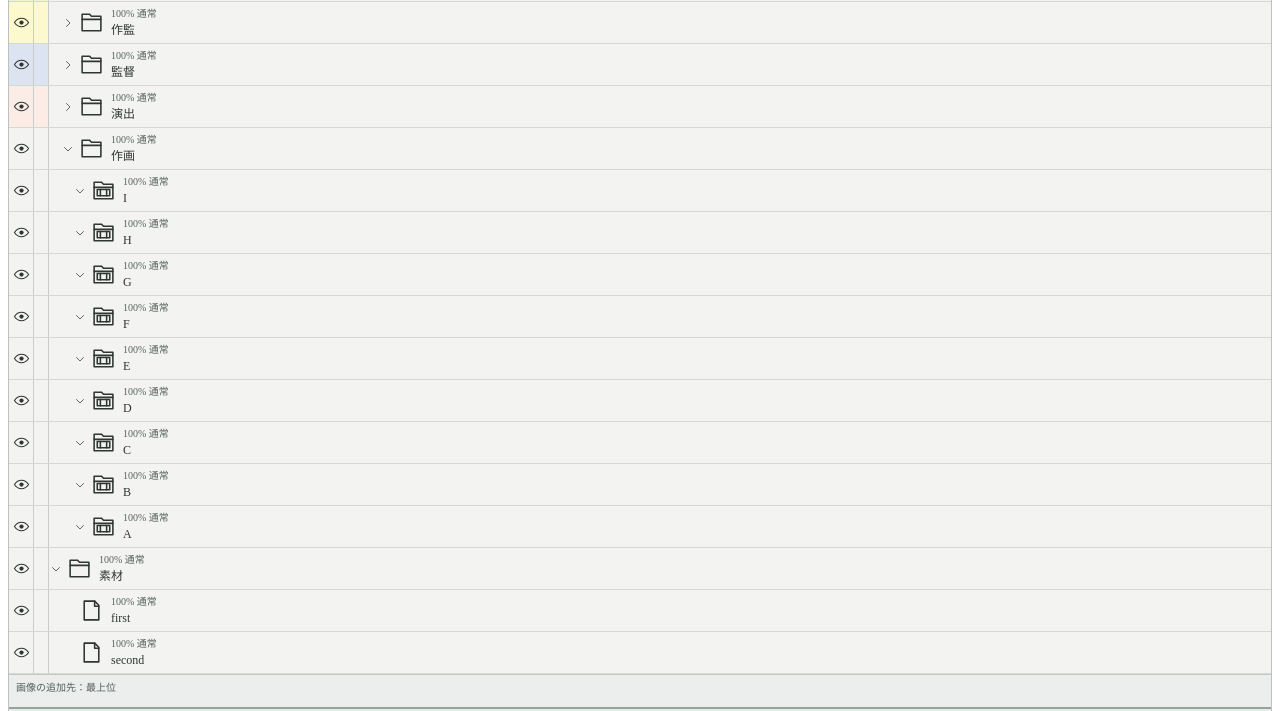
Test: CSP-style layer palette controls › renames on the name, keeps quick look separate, and cancels a slider gesture without editing
This screenshot has width=1280, height=711.
(page scrolled)
Click the element showing "100% 通常 first": x=640, y=611 left=9, top=590, right=1271, bottom=632
(page scrolled)
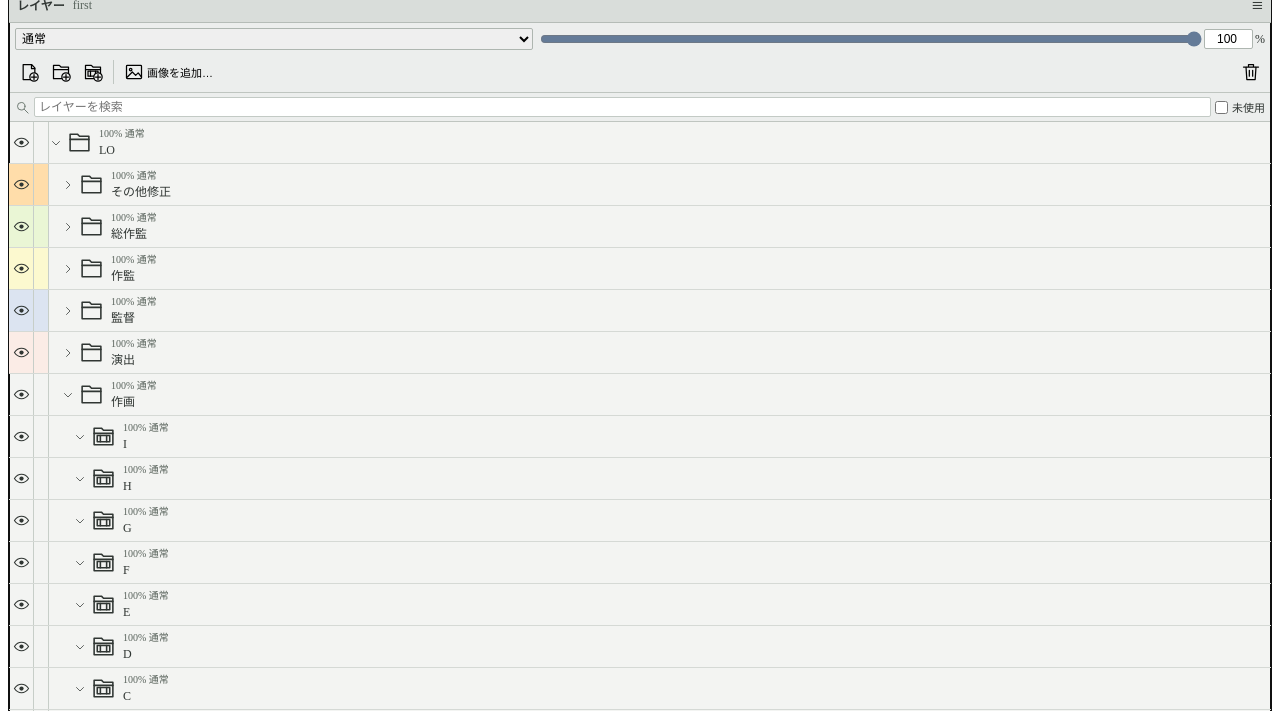
Set the slider to "20": x=677, y=39 left=540, top=31, right=1202, bottom=47
(page scrolled)
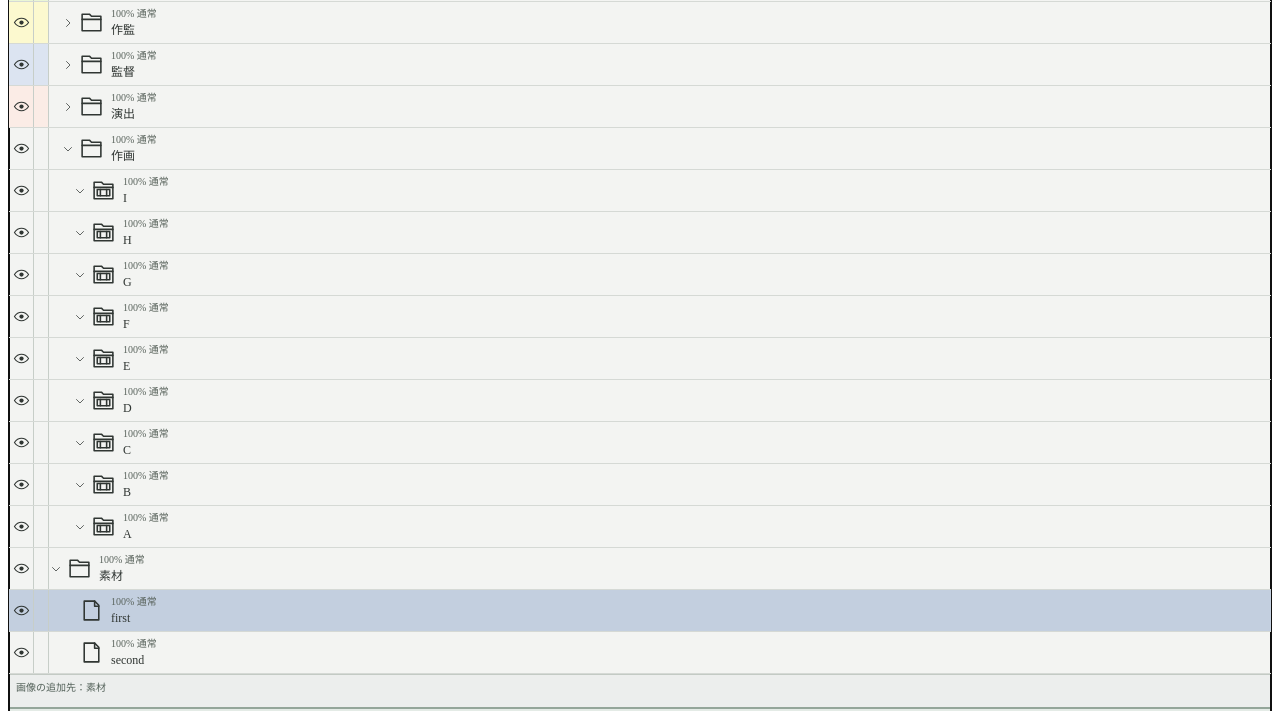
Double-click the text with class "clipLayerName" showing "first": x=121, y=618 left=111, top=610, right=130, bottom=624
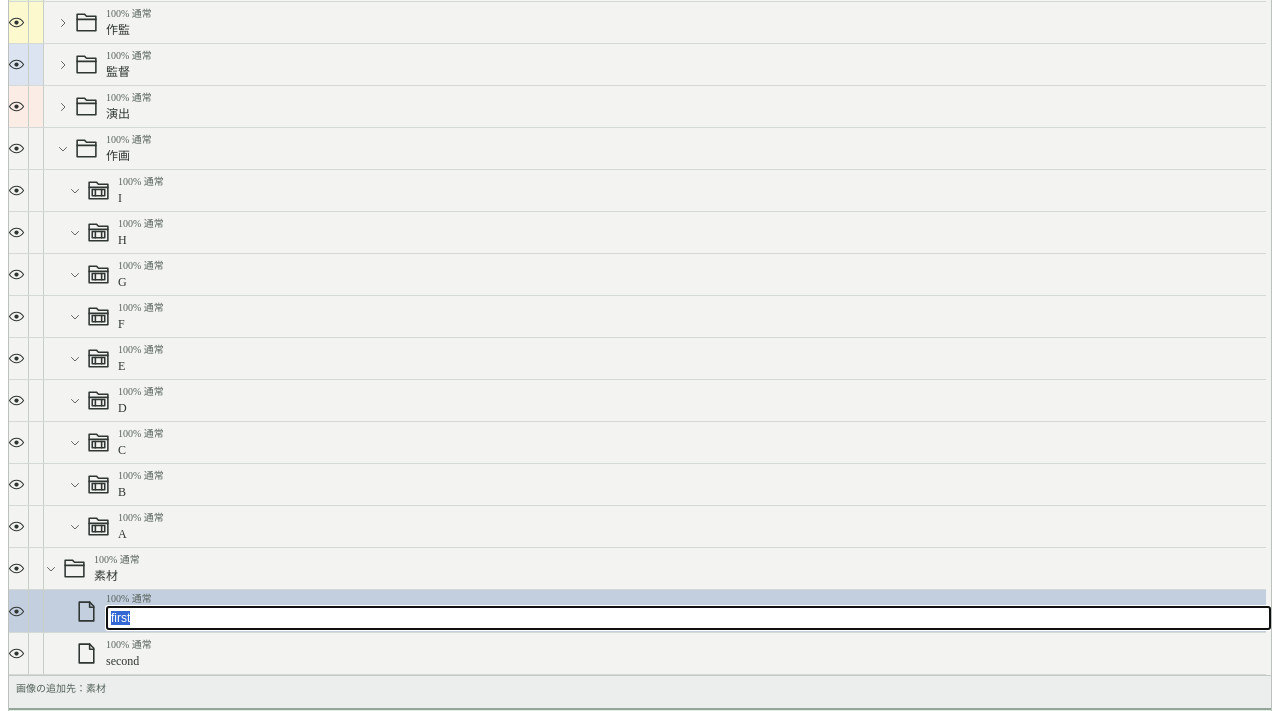
Replace the text in the field named "レイヤー名" with "renamed": x=688, y=618 left=106, top=606, right=1271, bottom=630
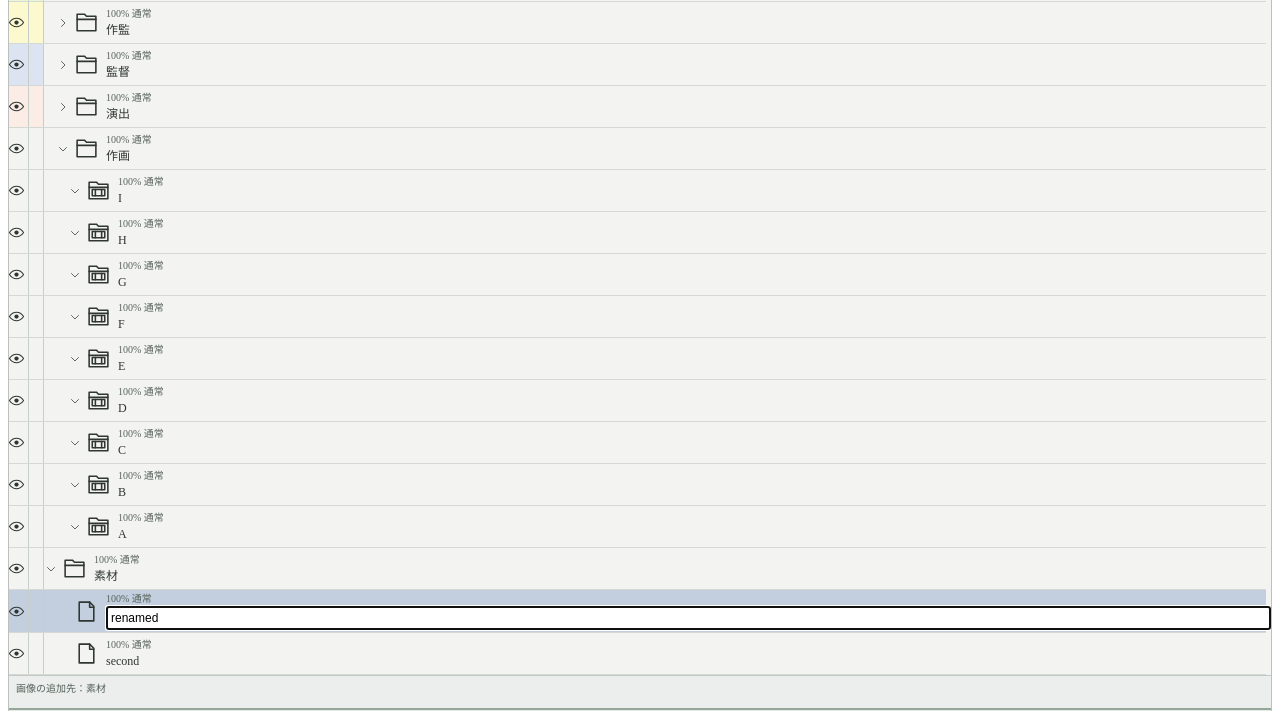
Press Enter in the field named "レイヤー名", box left=106, top=606, right=1271, bottom=630
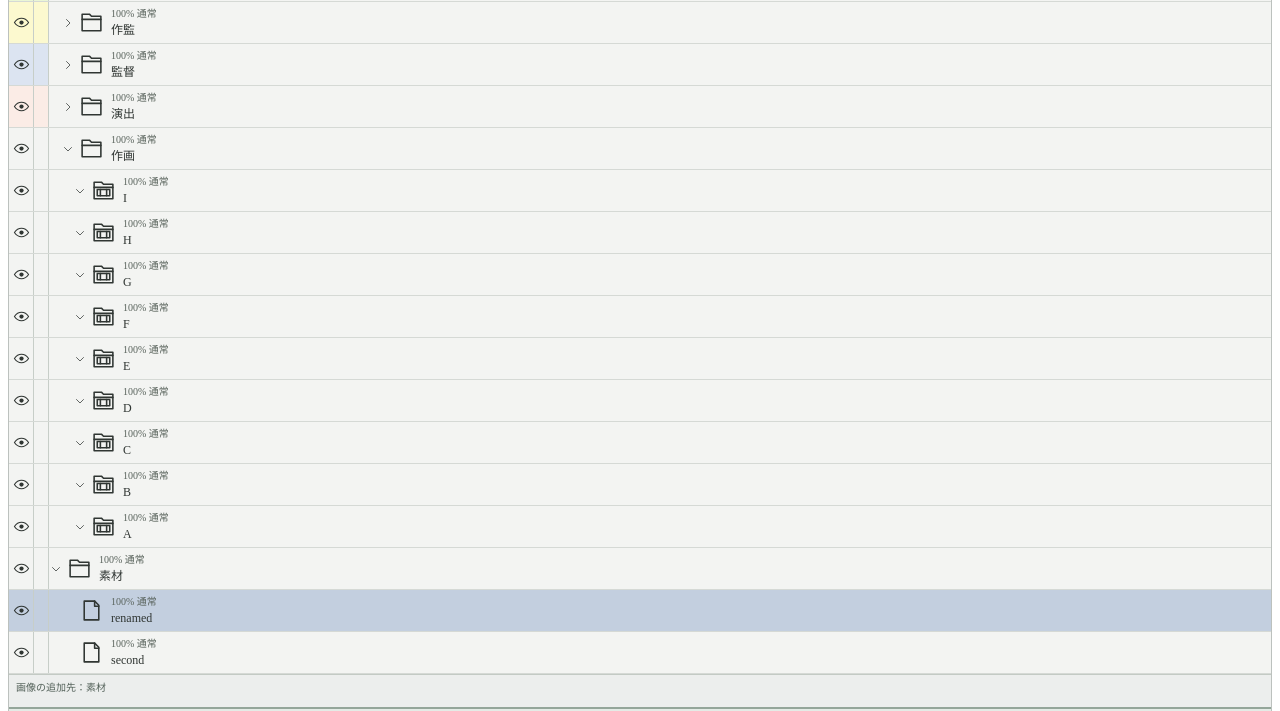
Expected: the button named "renamedをクイックルック" is shown, left=76, top=596, right=106, bottom=626
